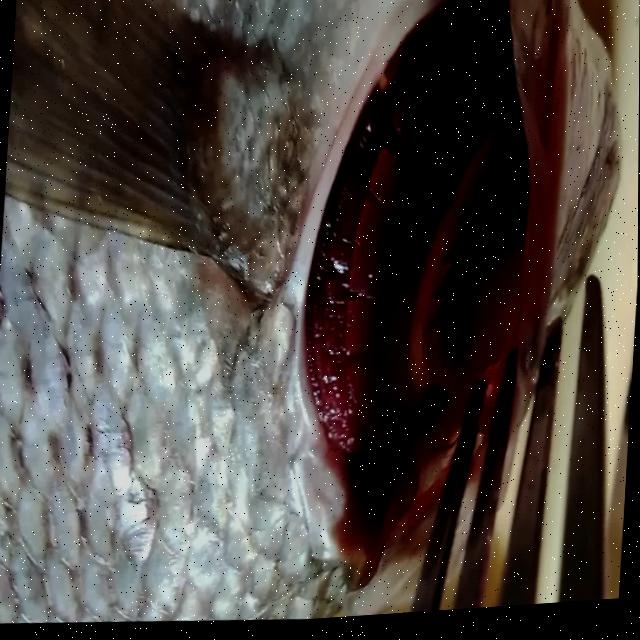Fresh: (279, 0, 555, 574)
